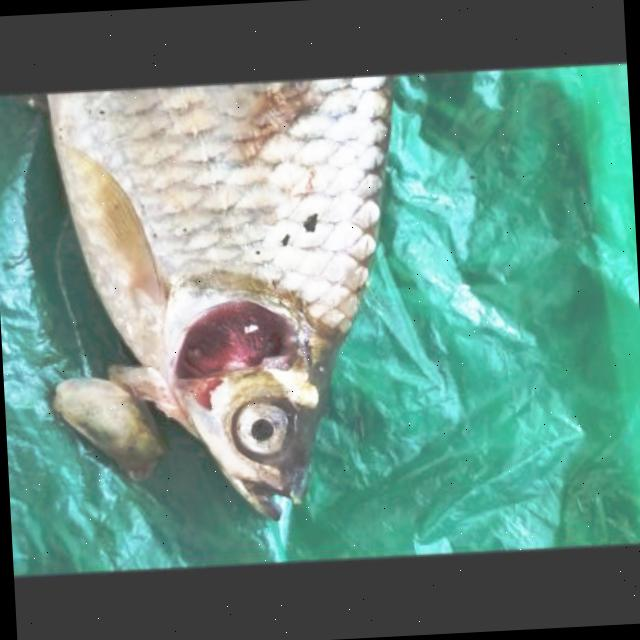Flavobacterium -Bacterial Gill Disease-: (48, 73, 392, 520), (47, 76, 391, 518)
